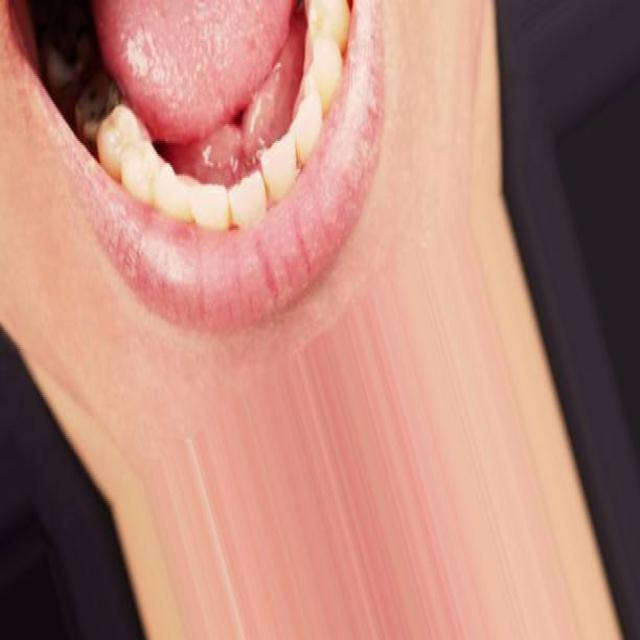caries: (72, 67, 121, 131), (42, 18, 90, 74)
